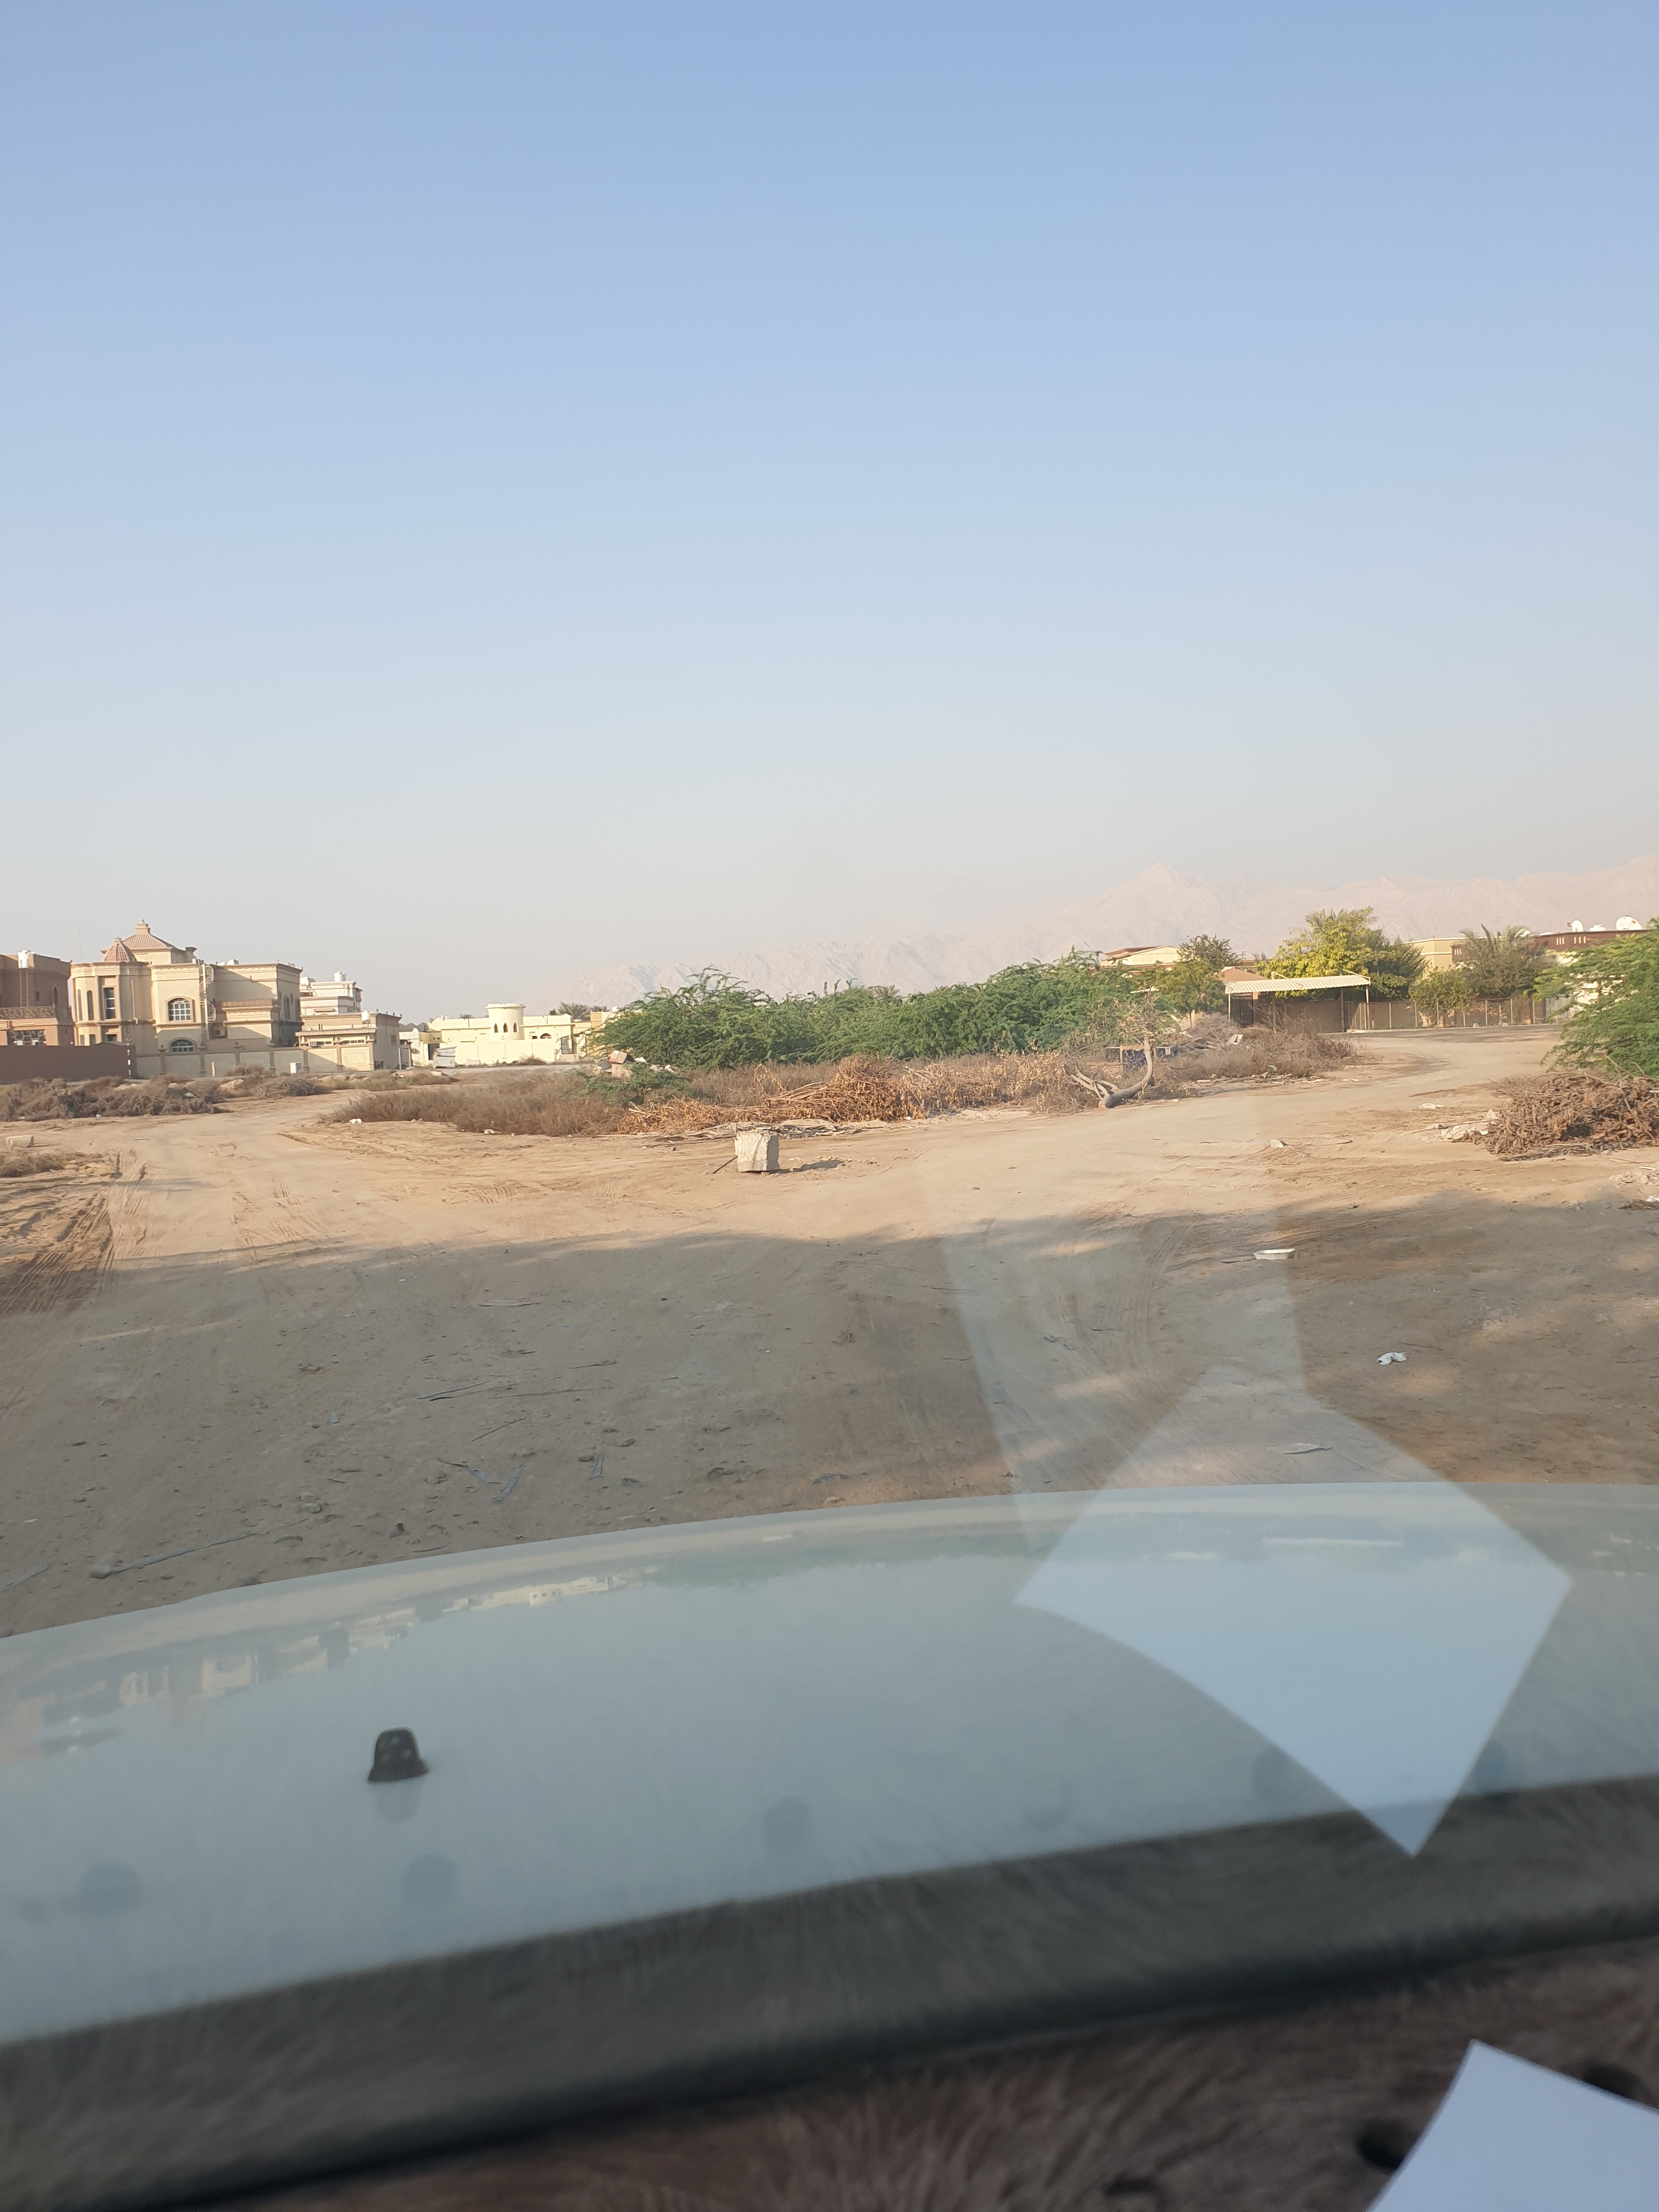fallen_trees: (1380, 1085, 1581, 1177), (1483, 1068, 1598, 1184), (767, 1090, 929, 1143), (932, 1062, 1068, 1123), (1053, 1054, 1176, 1118)
